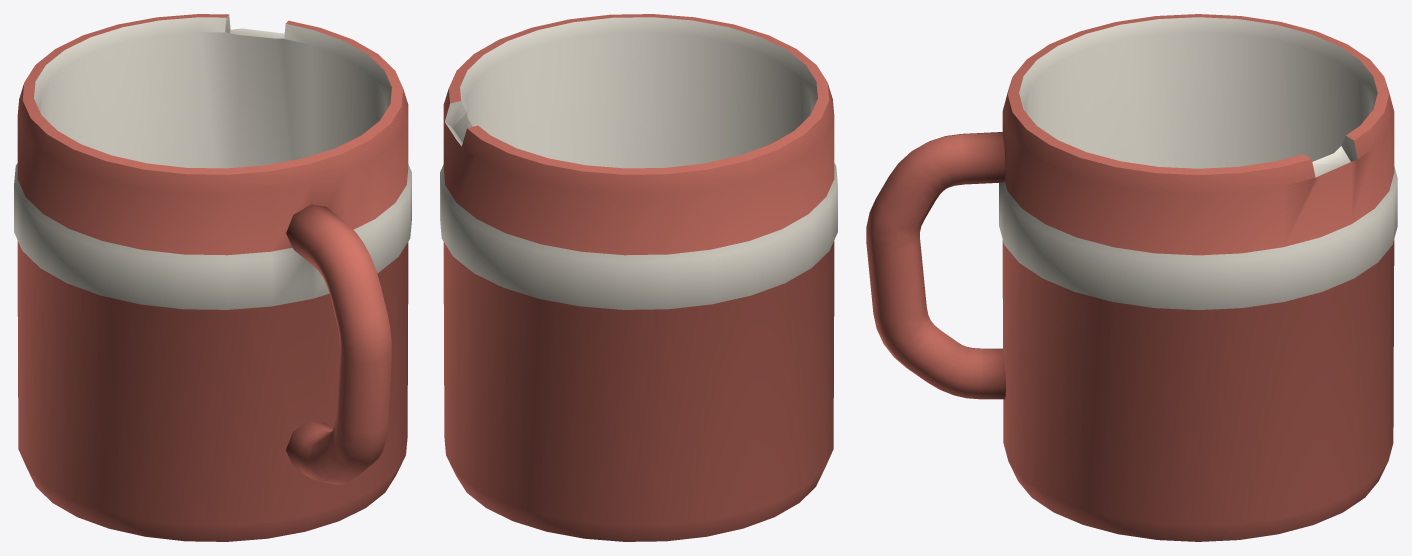
File: junk_mug.glb
3 views of the same model, side by side, from view 1: azimuth 30°, elevation 25°; view 2: azimuth 150°, elevation 25°; view 3: azimuth 270°, elevation 25° (orthographic).
Parts seen in each view (by area): view 1: PART; view 2: PART; view 3: PART.
Part boxes in pixels (<box>): PART: <box>14,14,411,541</box>; PART: <box>440,14,837,541</box>; PART: <box>866,14,1397,541</box>.
Size of the model in its own units: 0.0916 by 0.0952 by 0.1221.
